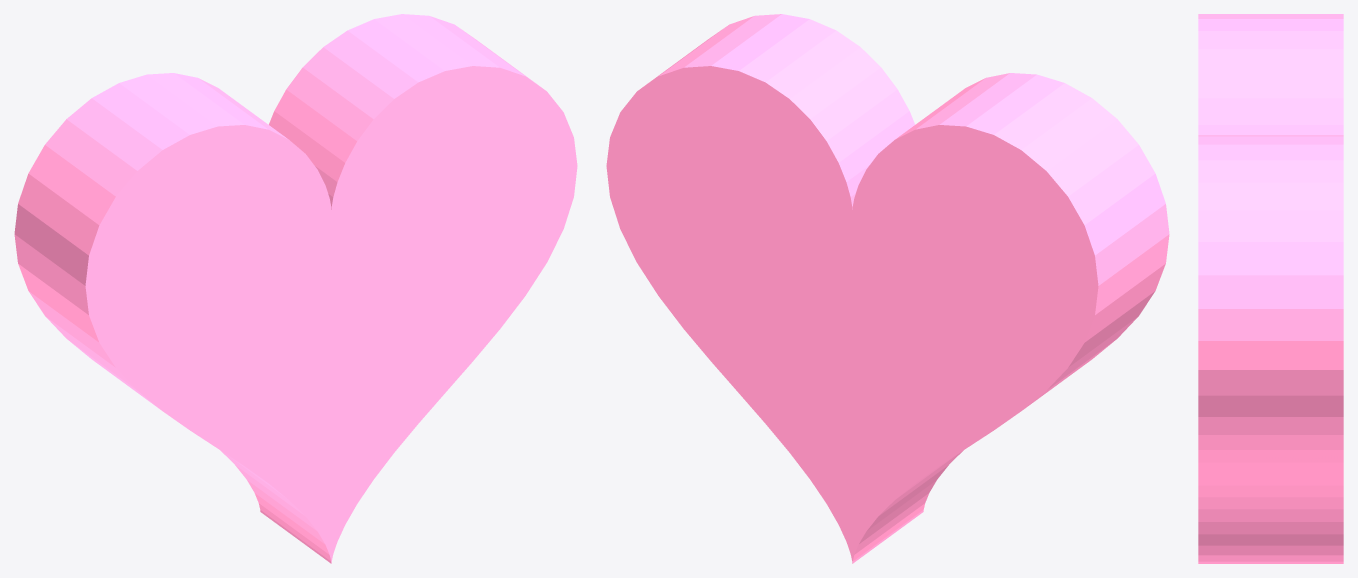
Rendered from coracao.glb.
3 renders of one model, left to right at view 1: azimuth 30°, elevation 25°; view 2: azimuth 150°, elevation 25°; view 3: azimuth 270°, elevation 25°, orthographic. The views are drawn at different scales.
Parts seen in each view (by area): view 1: coracao; view 2: coracao; view 3: coracao.
Boxes of the visible parts, box(x1,y1,x2,y2) form: coracao: box(14, 14, 577, 563); coracao: box(606, 14, 1169, 563); coracao: box(1198, 14, 1343, 563).
Bounding box in the file's own units: 1.12 × 1.01 × 0.28.
